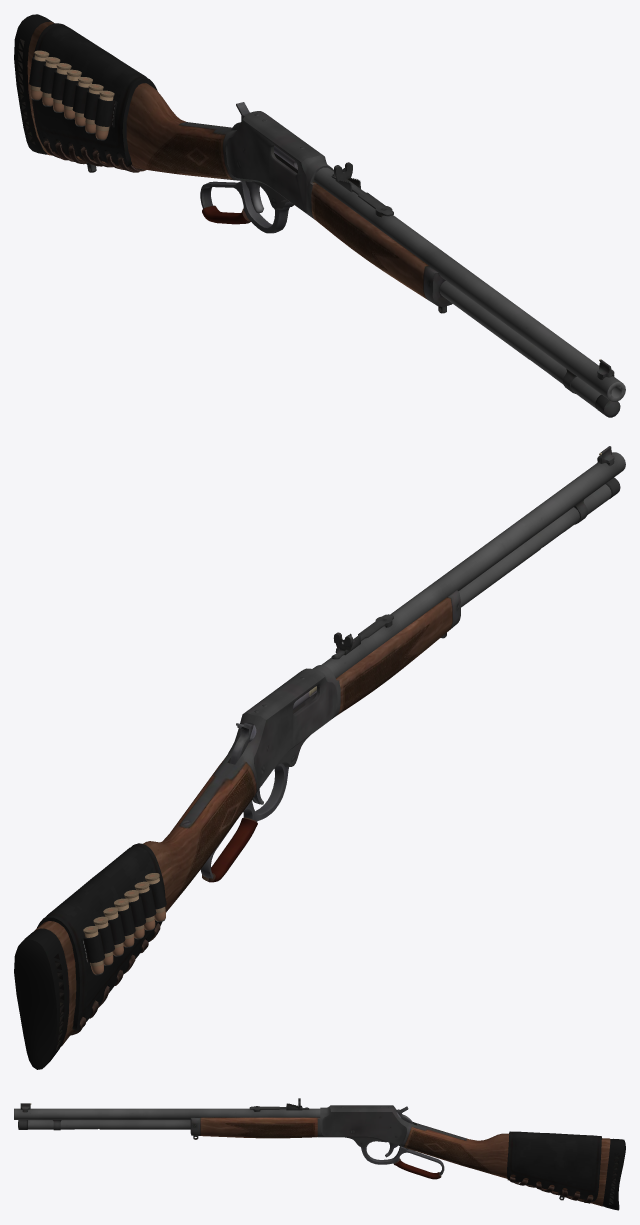
File: nlocktime.glb
The picture shows the model from 3 angles, top to bottom: view 1: azimuth 30°, elevation 25°; view 2: azimuth 150°, elevation 25°; view 3: azimuth 270°, elevation 25°; orthographic projection. The views are drawn at different scales.
Parts seen in each view (by area): view 1: Object_rifle_0, Object023tr_pat1_0, Object037_bullets2_0; view 2: Object_rifle_0, Object023tr_pat1_0, Object037_bullets2_0; view 3: Object_rifle_0, Object023tr_pat1_0.
Boxes of the visible parts, x1,y1,x2,y2 form: Object_rifle_0: (14, 14, 625, 417); Object023tr_pat1_0: (29, 23, 157, 172); Object037_bullets2_0: (30, 50, 114, 140); Object_rifle_0: (14, 446, 625, 1069); Object023tr_pat1_0: (37, 843, 166, 1035); Object037_bullets2_0: (83, 873, 165, 975); Object_rifle_0: (14, 1098, 625, 1210); Object023tr_pat1_0: (507, 1131, 601, 1203).
Size of the model in its own units: 5.98 by 19.62 by 98.77.
Materials: 3 (3 with a texture image).
